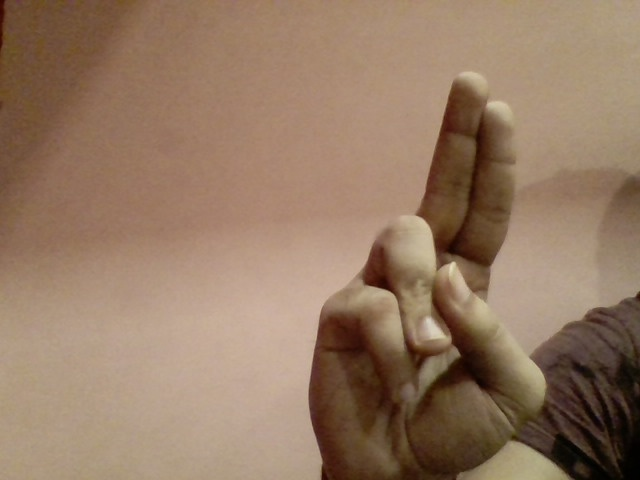u: (290, 44, 553, 470)
